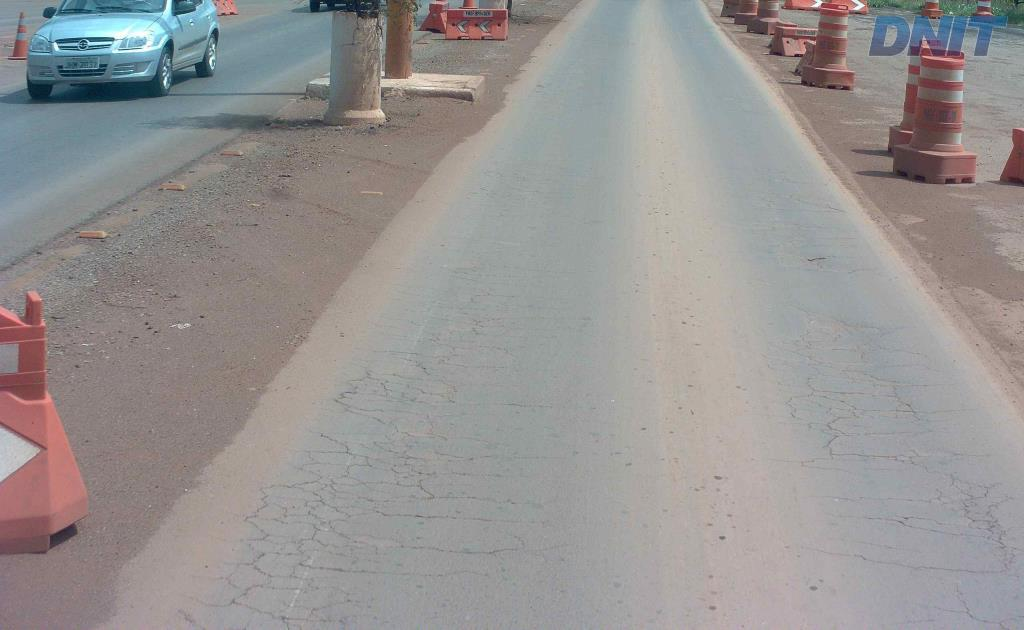crack: (853, 552, 1020, 580), (854, 368, 928, 425), (822, 415, 906, 463), (397, 450, 477, 500), (943, 584, 1021, 629), (960, 486, 1000, 534)
